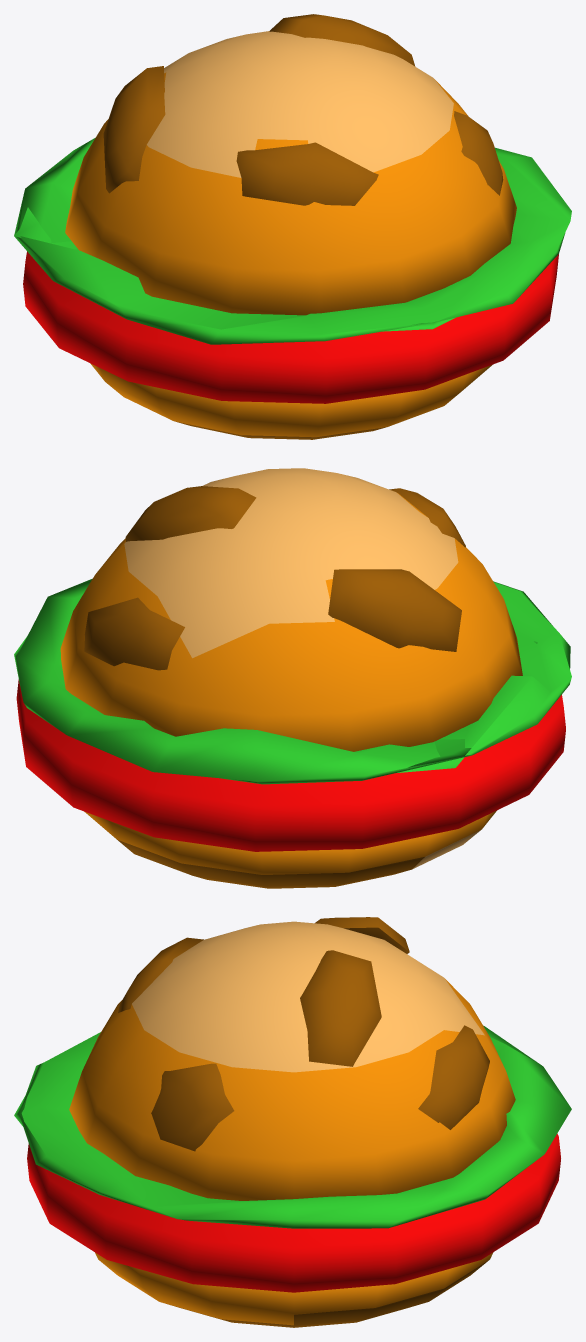
Rendered from burger.fbx.
3 renders of one model, top to bottom at view 1: azimuth 30°, elevation 25°; view 2: azimuth 150°, elevation 25°; view 3: azimuth 270°, elevation 25°, orthographic. The views are drawn at different scales.
Visible parts, largest first — view 1: Sphere; view 2: Sphere; view 3: Sphere.
Part boxes in pixels (box(x1,y1,x2,y2)): Sphere: box(14, 14, 571, 439); Sphere: box(14, 468, 571, 888); Sphere: box(14, 917, 571, 1327).
Size of the model in its own units: 238 by 159 by 243.
